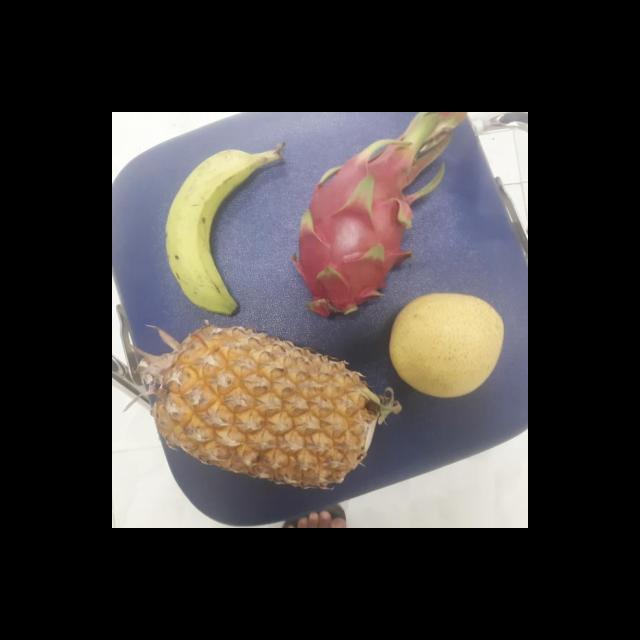banana: (162, 150, 276, 315)
pear: (385, 294, 505, 395)
pineapple: (142, 324, 374, 488)
pitaya: (289, 154, 423, 314)
